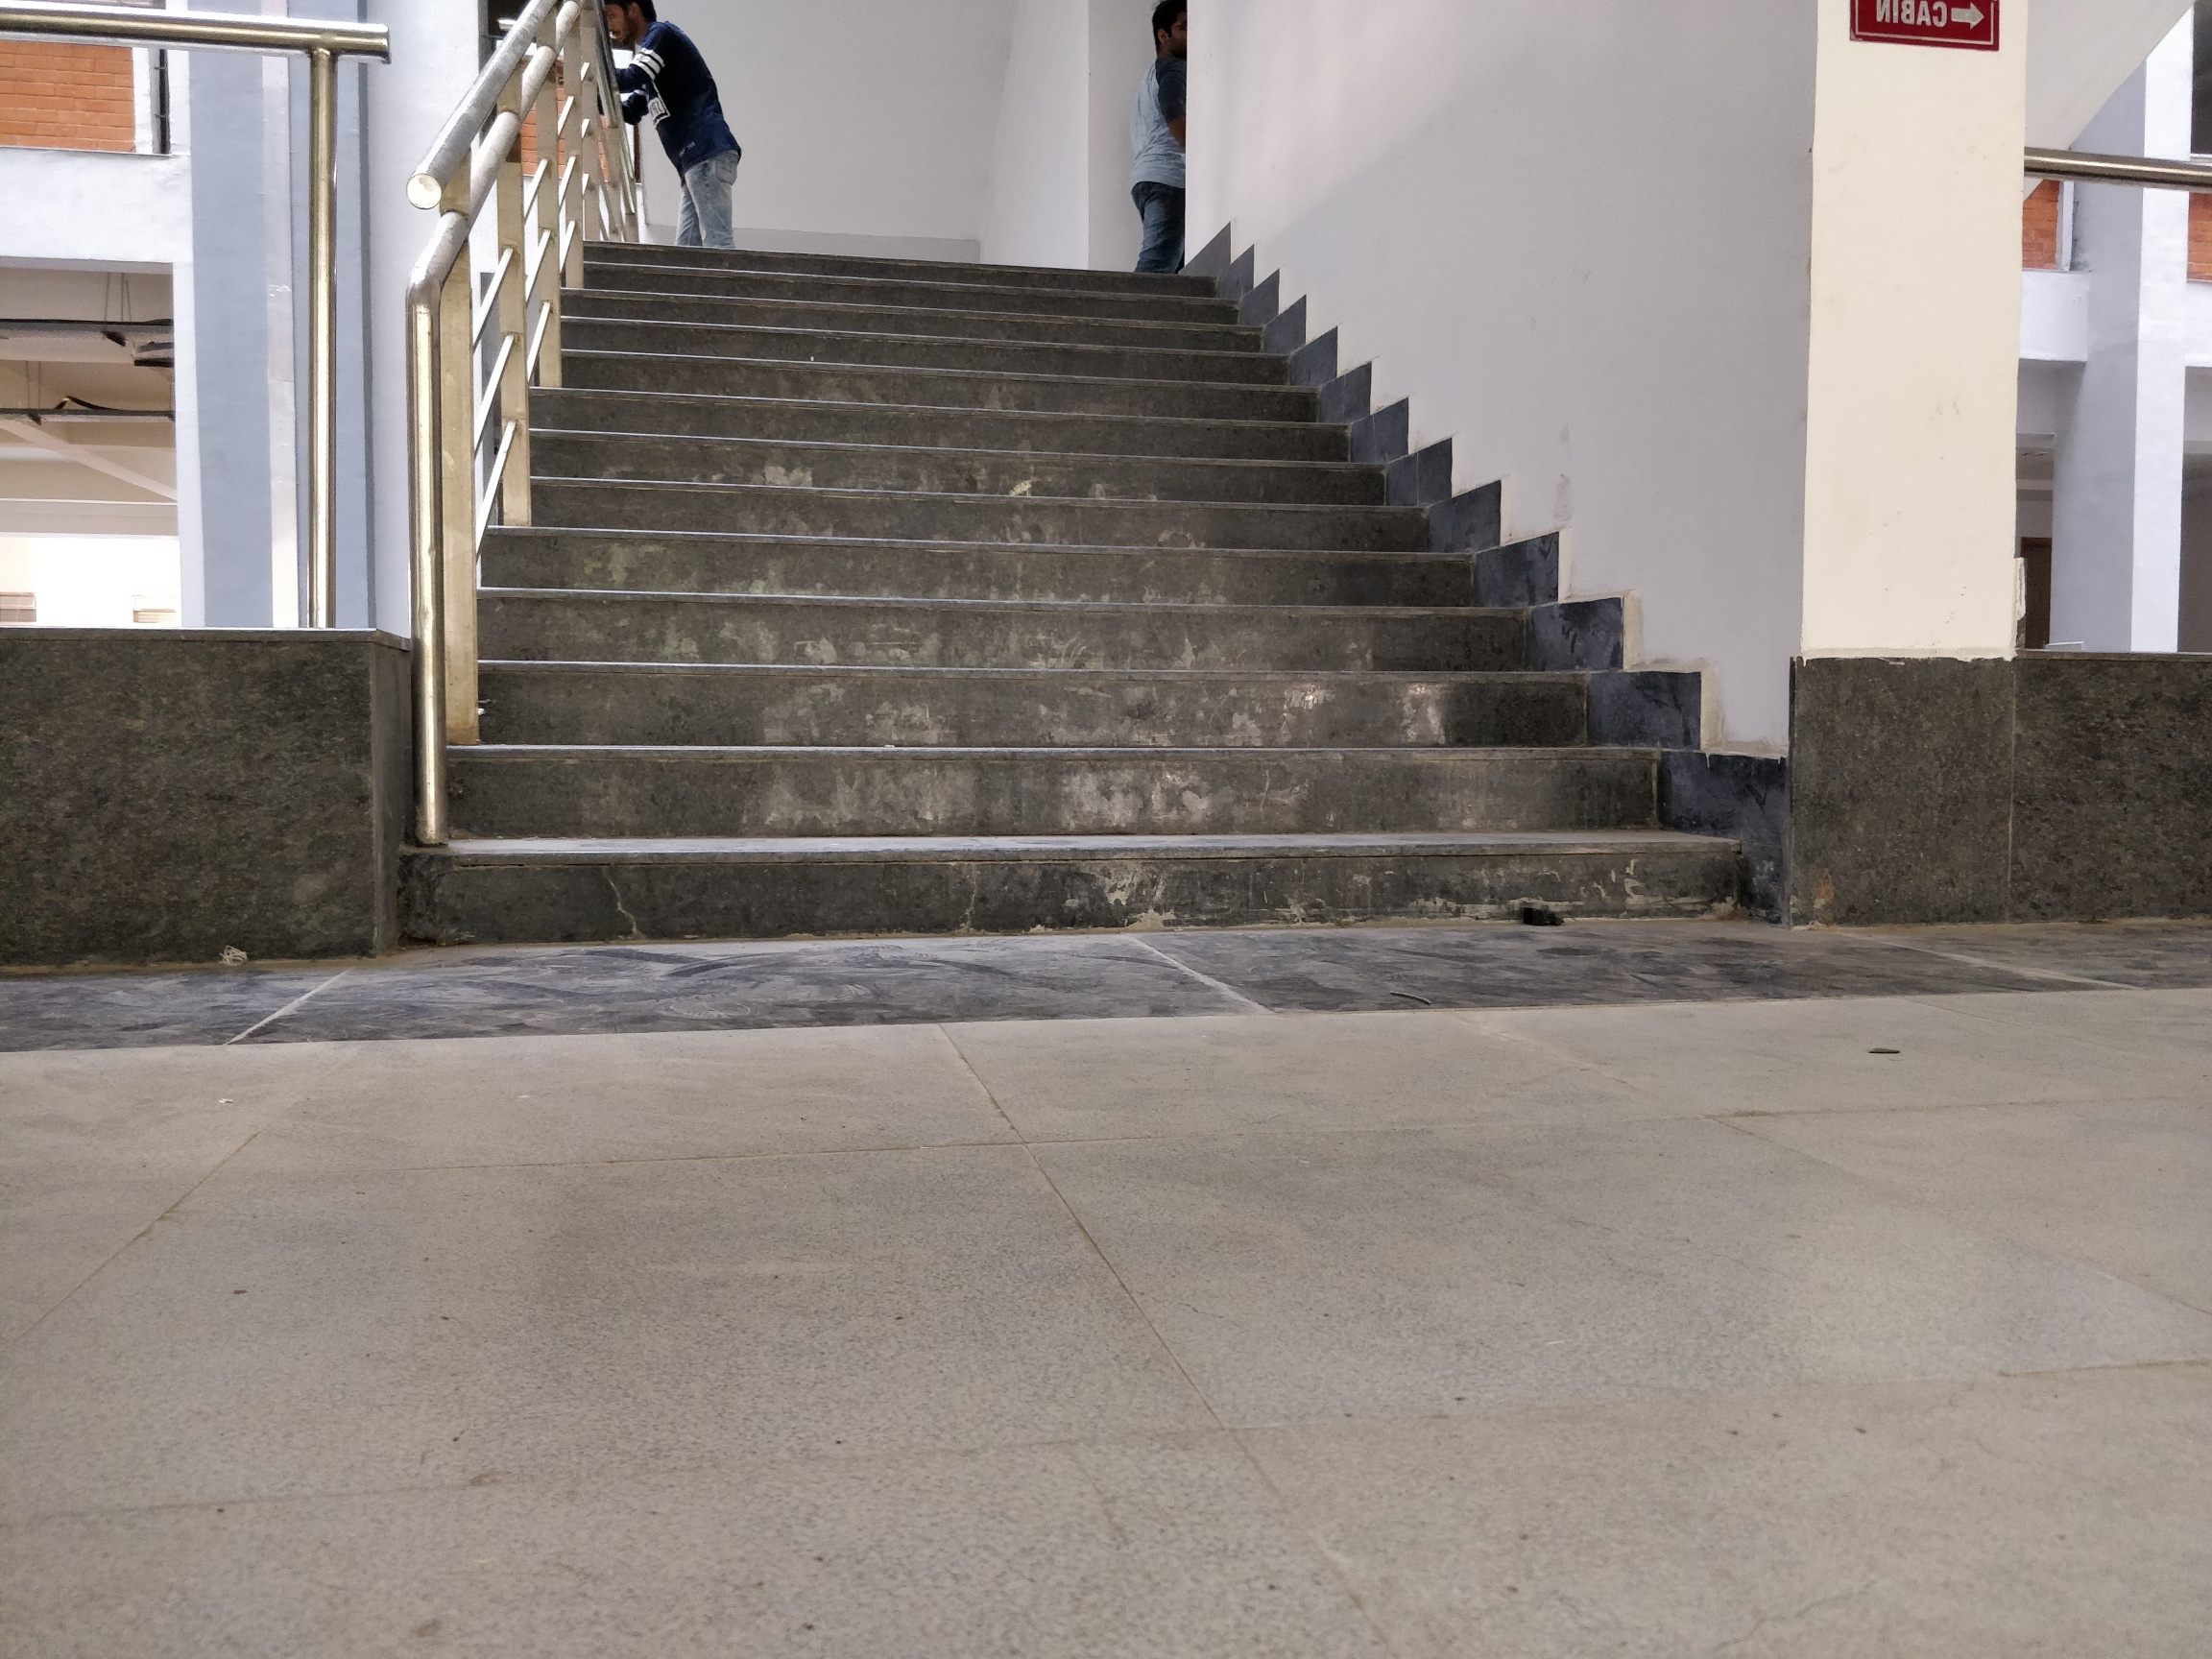stairs_up: (472, 232, 1707, 939)
